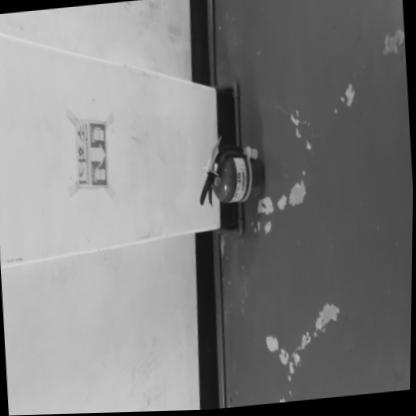FE: (197, 139, 265, 209)
